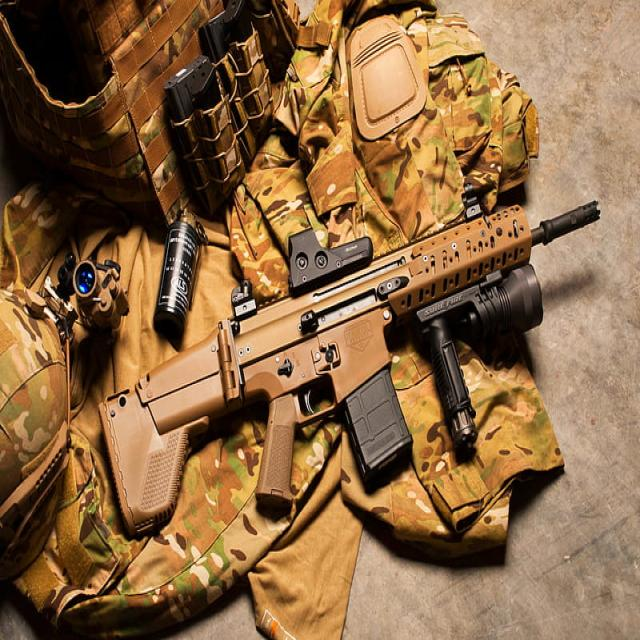Gun: (97, 185, 637, 515)
